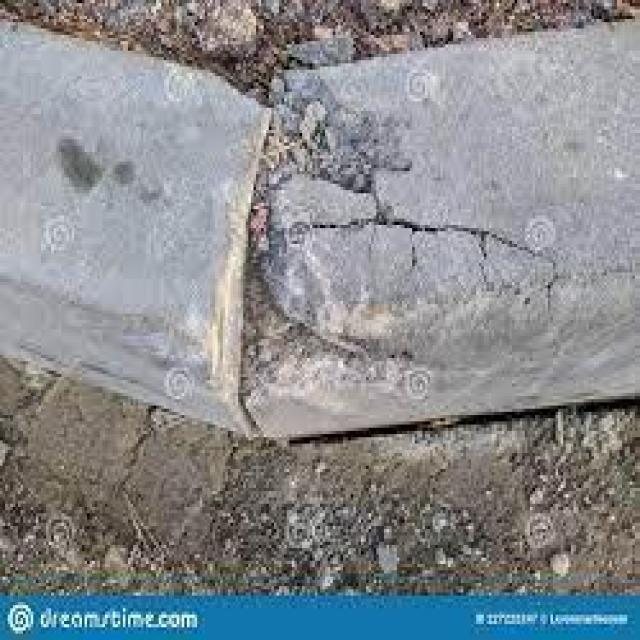curb: (239, 21, 637, 440), (1, 14, 270, 447)
